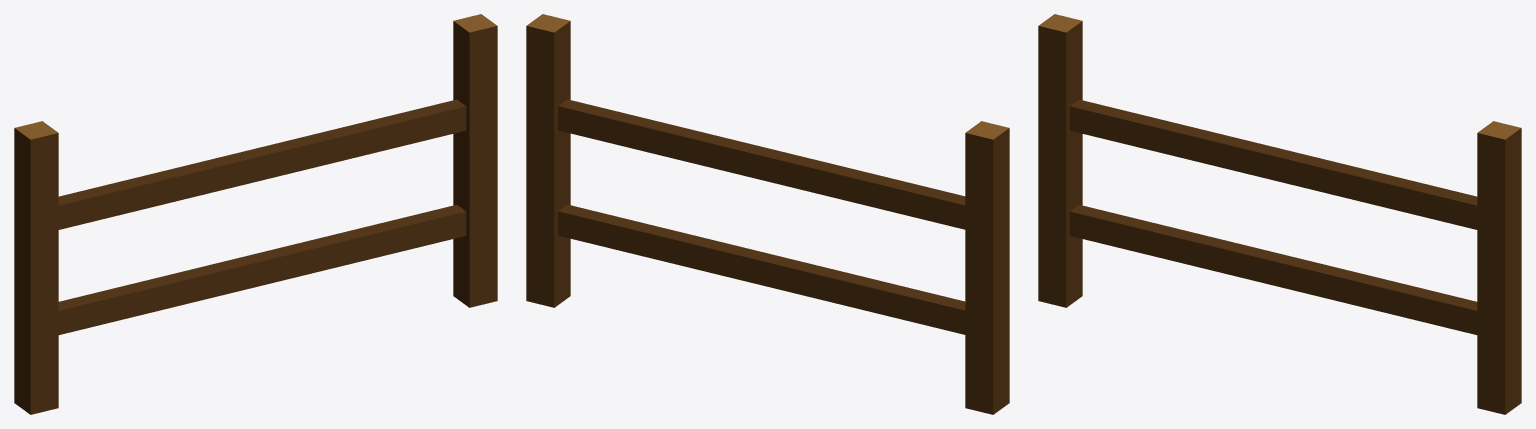
File: FarmFence_04.fbx
3 views of the same model, side by side, from view 1: azimuth 30°, elevation 25°; view 2: azimuth 150°, elevation 25°; view 3: azimuth 330°, elevation 25° (orthographic).
Visible parts, largest first — view 1: FarmFence_04; view 2: FarmFence_04; view 3: FarmFence_04.
Boxes of the visible parts, <box> form: FarmFence_04: <box>14,14,497,414</box>; FarmFence_04: <box>526,14,1009,414</box>; FarmFence_04: <box>1038,14,1521,414</box>.
Bounding box in the file's own units: 0.3333 × 0.1878 × 0.02.
